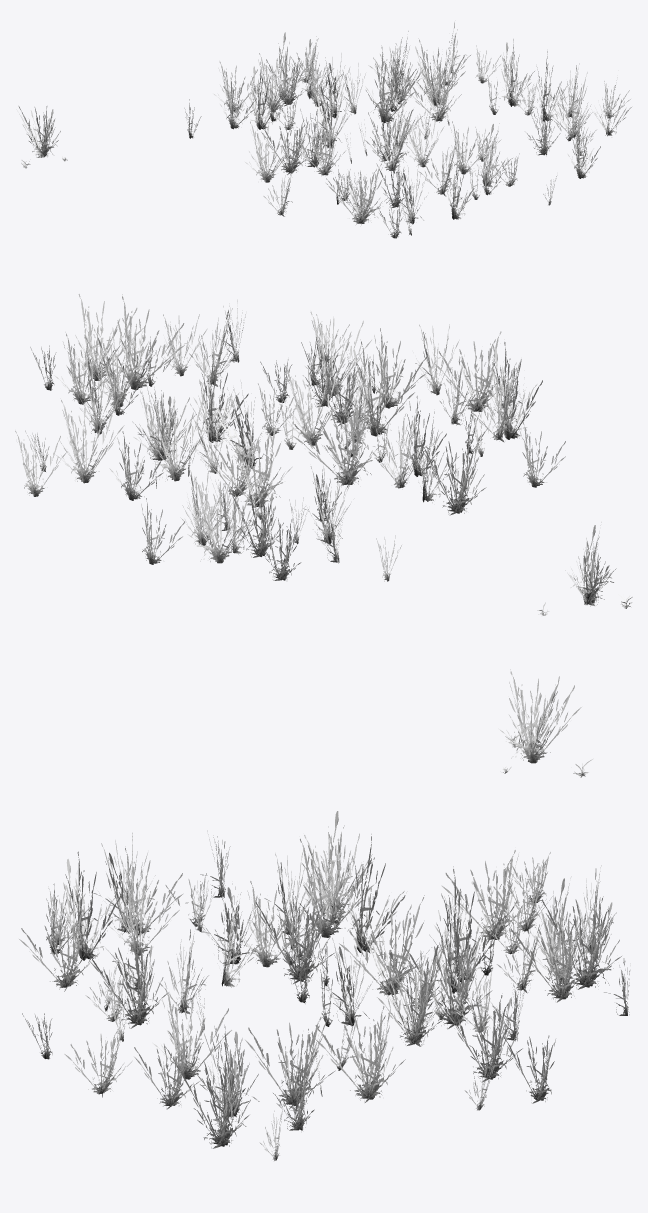
File: grass.glb
The picture shows the model from 3 angles, top to bottom: view 1: azimuth 30°, elevation 25°; view 2: azimuth 150°, elevation 25°; view 3: azimuth 270°, elevation 25°; orthographic projection. The views are drawn at different scales.
Visible parts, largest first — view 1: rostlinka_7c_scater_rostlinka_07c_0, rostlinka_07c_rostlinka_07c_0; view 2: rostlinka_7c_scater_rostlinka_07c_0, rostlinka_07c_rostlinka_07c_0; view 3: rostlinka_7c_scater_rostlinka_07c_0, rostlinka_07c_rostlinka_07c_0.
Part boxes in pixels (left/top/right/bottom): rostlinka_7c_scater_rostlinka_07c_0: left=184, top=22, right=631, bottom=238; rostlinka_07c_rostlinka_07c_0: left=16, top=106, right=60, bottom=157; rostlinka_7c_scater_rostlinka_07c_0: left=15, top=294, right=565, bottom=581; rostlinka_07c_rostlinka_07c_0: left=565, top=522, right=616, bottom=606; rostlinka_7c_scater_rostlinka_07c_0: left=19, top=811, right=630, bottom=1160; rostlinka_07c_rostlinka_07c_0: left=498, top=669, right=581, bottom=763.
Bounding box in the file's own units: 1 × 0.2095 × 0.6485.
Materials: 2 (2 with a texture image).
